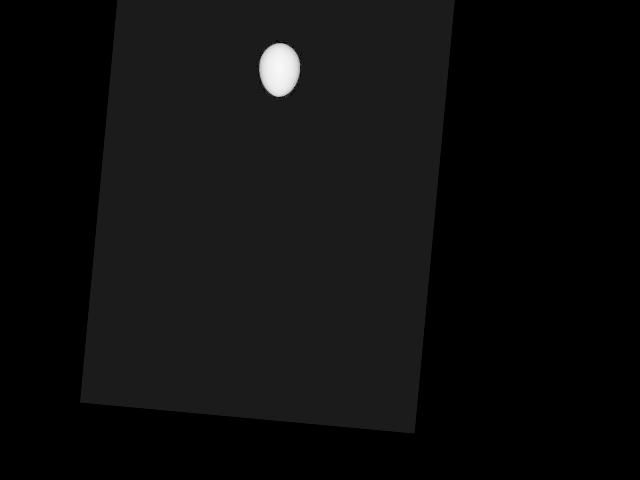egg: (257, 41, 302, 97)
